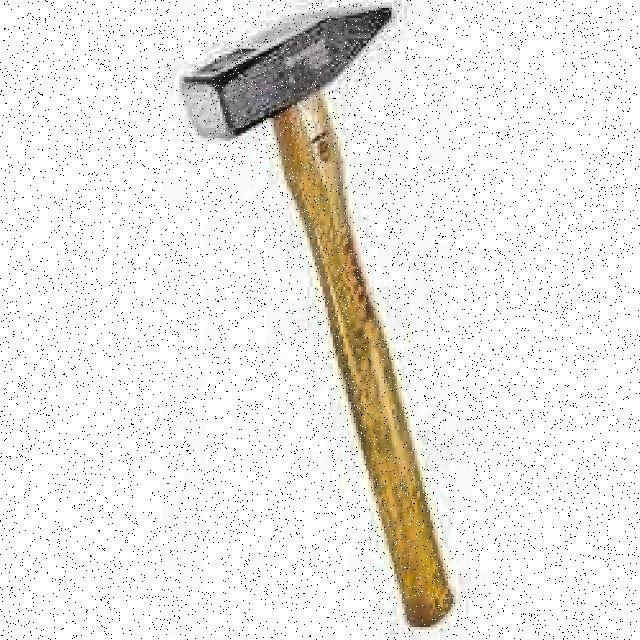hammer: (177, 4, 487, 626)
